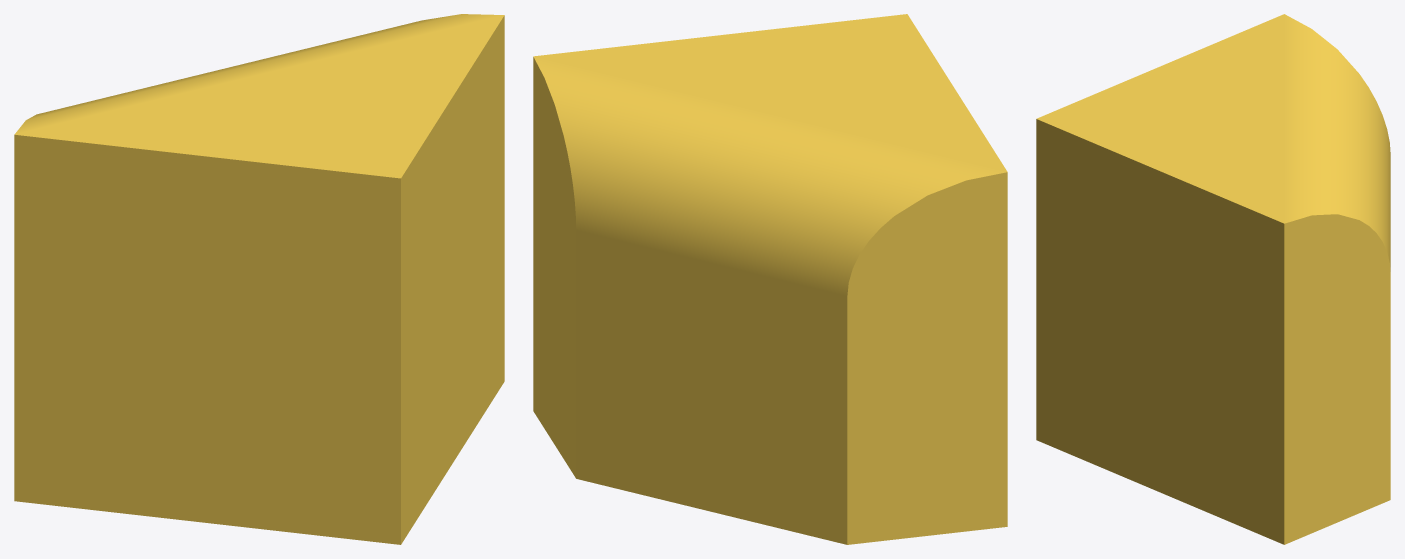
Rendered from Base_Rounded.obj.
3 views of the same model, side by side, from view 1: azimuth 30°, elevation 25°; view 2: azimuth 150°, elevation 25°; view 3: azimuth 270°, elevation 25° (orthographic). The views are drawn at different scales.
Visible parts, largest first — view 1: Base_Rounded; view 2: Base_Rounded; view 3: Base_Rounded.
Part boxes in pixels (x1,y1,x2,y2): Base_Rounded: (14,14,504,544); Base_Rounded: (533,14,1007,544); Base_Rounded: (1036,14,1390,544).
Size of the model in its own units: 0.7 by 0.5 by 0.5.
